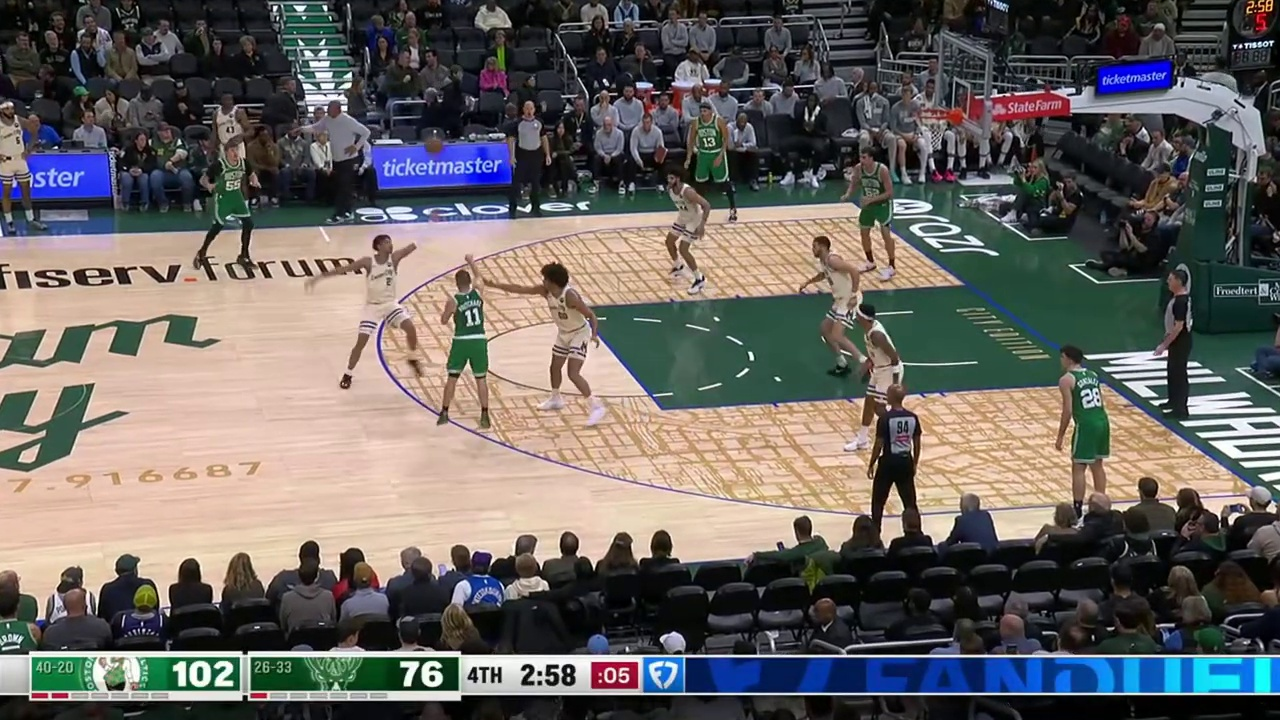0_JerichoSims: (524, 256, 609, 439)
11_GaryHarris: (852, 301, 912, 388)
11_PaytonPrichard: (435, 258, 499, 419)
13_RonHarperJr: (678, 94, 738, 169)
21_OusmaneDieng: (339, 223, 430, 399)
28_HugoGonzalez: (1043, 340, 1133, 472)
35_PeteNance: (798, 231, 862, 303)
44_AndreJacksonJr: (644, 161, 718, 300)
52_LukaGarza: (830, 144, 912, 283)
55_BaylorScheierman: (197, 132, 269, 283)
